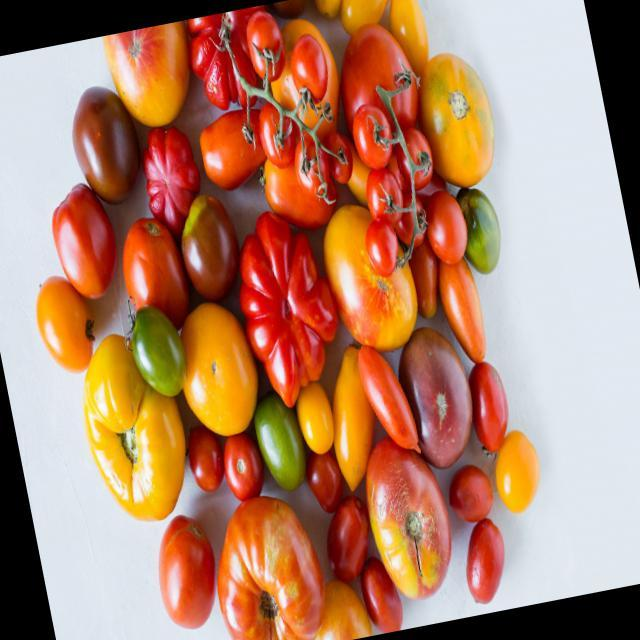TOMATO: (316, 196, 426, 388), (76, 350, 195, 522), (203, 486, 335, 640), (354, 433, 458, 591), (229, 225, 333, 382), (399, 332, 488, 482), (412, 40, 500, 187), (177, 296, 270, 434), (320, 357, 394, 509), (185, 5, 286, 116), (62, 82, 146, 211), (103, 22, 202, 128), (41, 168, 120, 300), (150, 513, 224, 637), (114, 206, 190, 318), (30, 272, 106, 379), (135, 123, 208, 229), (171, 185, 243, 292), (192, 100, 275, 186), (356, 346, 424, 450), (431, 248, 497, 354), (319, 492, 382, 589), (126, 312, 188, 408), (486, 426, 548, 520), (254, 394, 312, 493), (456, 186, 512, 280), (416, 188, 476, 275), (452, 516, 516, 597), (468, 350, 518, 448), (292, 383, 344, 468), (392, 115, 442, 202), (403, 224, 448, 320), (364, 167, 416, 250), (240, 5, 290, 90), (285, 28, 336, 107), (312, 571, 369, 640), (354, 210, 408, 282), (217, 430, 266, 505), (348, 102, 395, 174), (445, 462, 497, 526), (319, 0, 403, 39), (184, 422, 224, 491), (322, 116, 356, 176)
